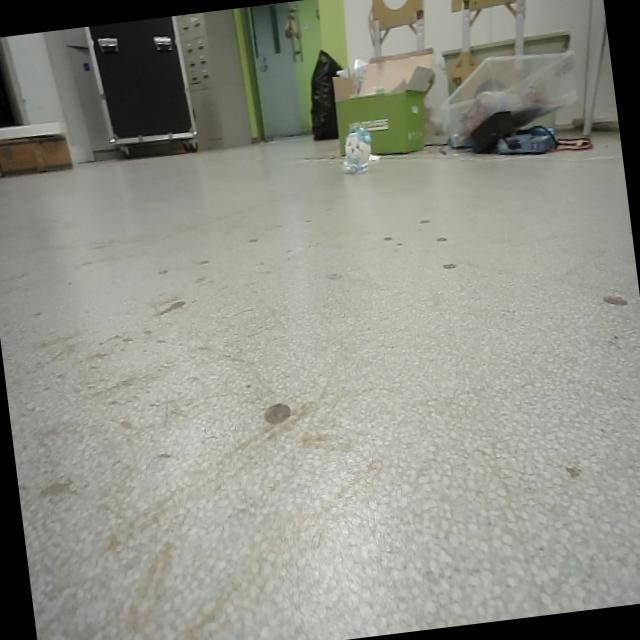xiaoba: (339, 120, 376, 174)
